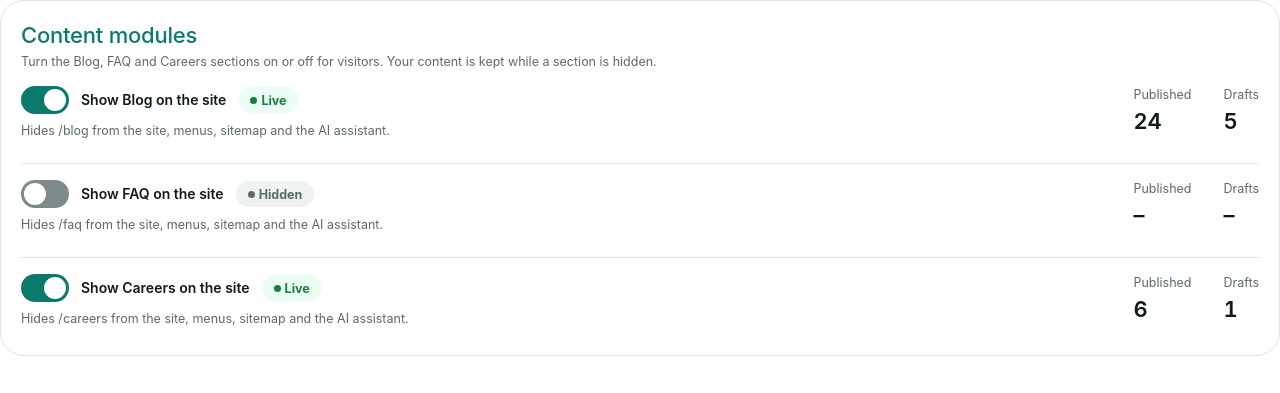
Test: the Content modules card, connected (ADR-143) › sends all three switches with the one that changed, then reads the page again
Click the switch named "Show FAQ on the site" next to "Show FAQ on the site".
click(45, 194)  # box [21,180,69,208]
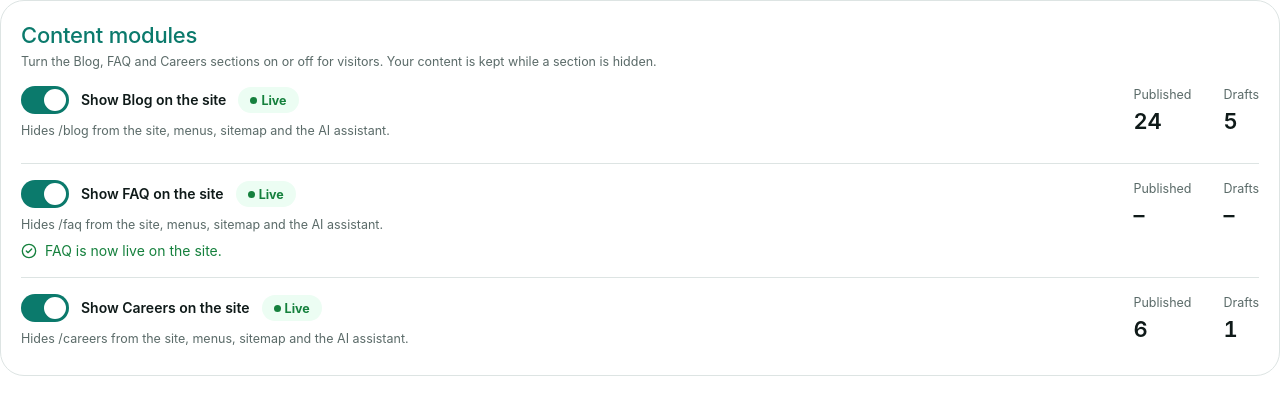
Check: the switch named "Show FAQ on the site" next to "Show FAQ on the site" is checked, box [21,180,69,208]
Check: the text "FAQ is now live on the site." is shown, box [21,242,222,259]
